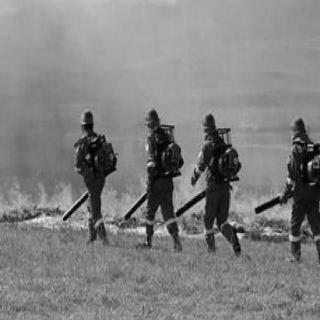Fire: (2, 159, 318, 245)
